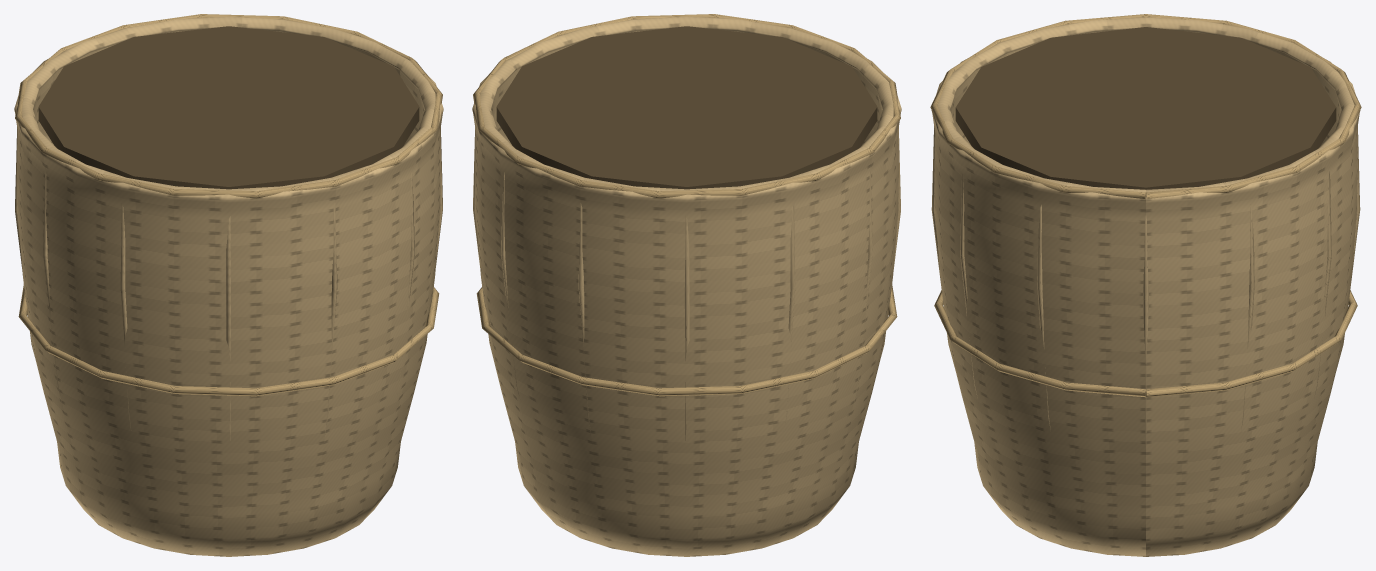
File: planter-base-v11.glb
3 views of the same model, side by side, from view 1: azimuth 30°, elevation 25°; view 2: azimuth 150°, elevation 25°; view 3: azimuth 270°, elevation 25° (orthographic).
Parts seen in each view (by area): view 1: planter-base-v11; view 2: planter-base-v11; view 3: planter-base-v11.
Part boxes in pixels (x1,y1,x2,y2): planter-base-v11: [14, 14, 443, 556]; planter-base-v11: [472, 14, 901, 556]; planter-base-v11: [930, 14, 1361, 556].
Bounding box in the file's own units: 0.3389 × 0.3385 × 0.339.
Materials: 4 (2 with a texture image).
